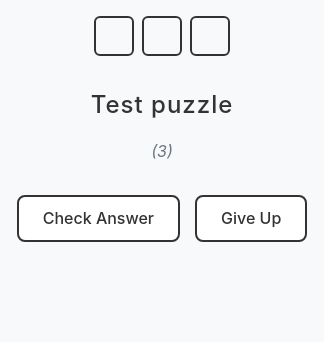
it: CryptogramGame - Basic Functionality › shows incorrect feedback for wrong answer
This screenshot has width=324, height=342.
Step 1. Type "c" into the 1st field → (114, 36), box [94,16,134,56]
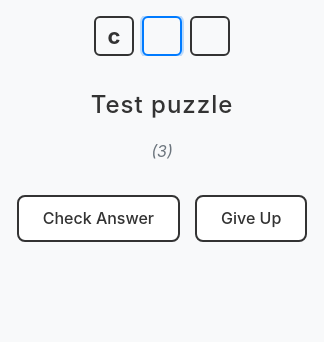
Step 2. Type "a" into the 2nd field → (162, 36), box [142,16,182,56]
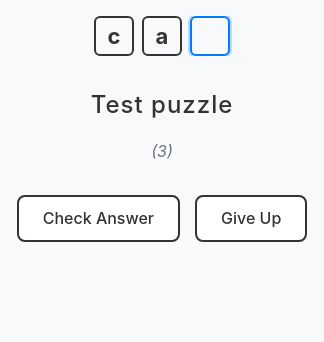
Step 3. Type "t" into the 3rd field → (210, 36), box [190,16,230,56]
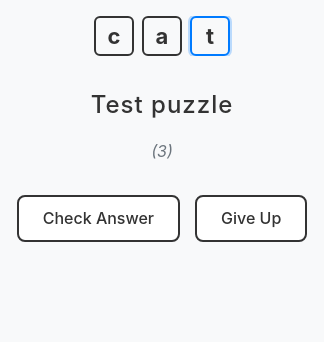
Step 4. Click the button "Check Answer" → (98, 219), box [17,195,180,242]
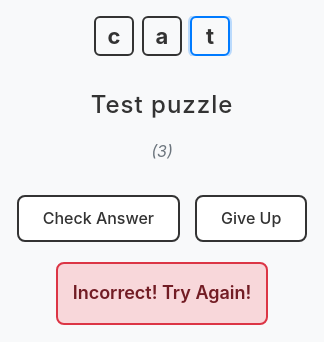
Result: the text "Incorrect! Try Again!" is shown at [56,262,268,325]
